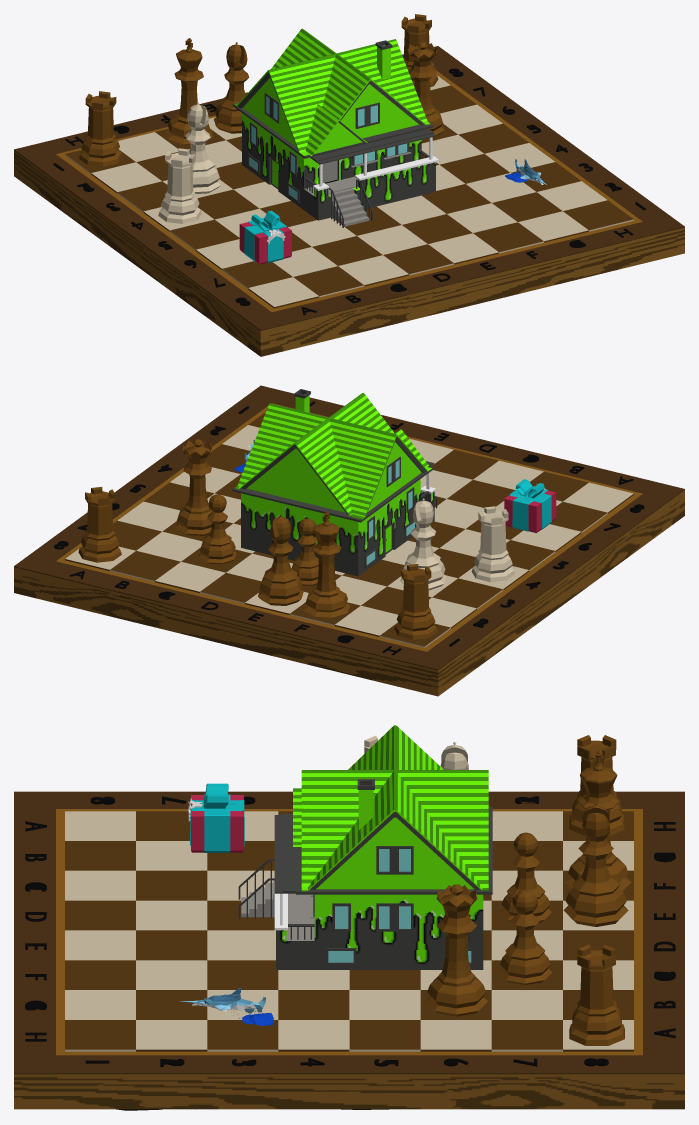
The picture shows the model from 3 angles, top to bottom: view 1: azimuth 30°, elevation 25°; view 2: azimuth 150°, elevation 25°; view 3: azimuth 270°, elevation 25°; orthographic projection. The views are drawn at different scales.
Visible parts, largest first — view 1: Cube.002, Cube.754, OBJRANDOM_GIANT_PRESENT; view 2: Cube.002, Cube.754, OBJRANDOM_GIANT_PRESENT; view 3: Cube.002, Cube.754, OBJRANDOM_GIANT_PRESENT, ANIMAL_PEZ_ESPADA.
Part boxes in pixels (x1,y1,x2,y2): Cube.002: (14, 14, 684, 356); Cube.754: (232, 28, 438, 227); OBJRANDOM_GIANT_PRESENT: (239, 210, 291, 264); Cube.002: (14, 385, 684, 696); Cube.754: (232, 389, 437, 576); OBJRANDOM_GIANT_PRESENT: (504, 479, 556, 532); Cube.002: (14, 735, 684, 1109); Cube.754: (238, 725, 492, 969); OBJRANDOM_GIANT_PRESENT: (188, 783, 244, 852); ANIMAL_PEZ_ESPADA: (180, 988, 273, 1025).
Bounding box in the file's own units: 3981 × 1457 × 4012.
26 materials, 3 textured.
